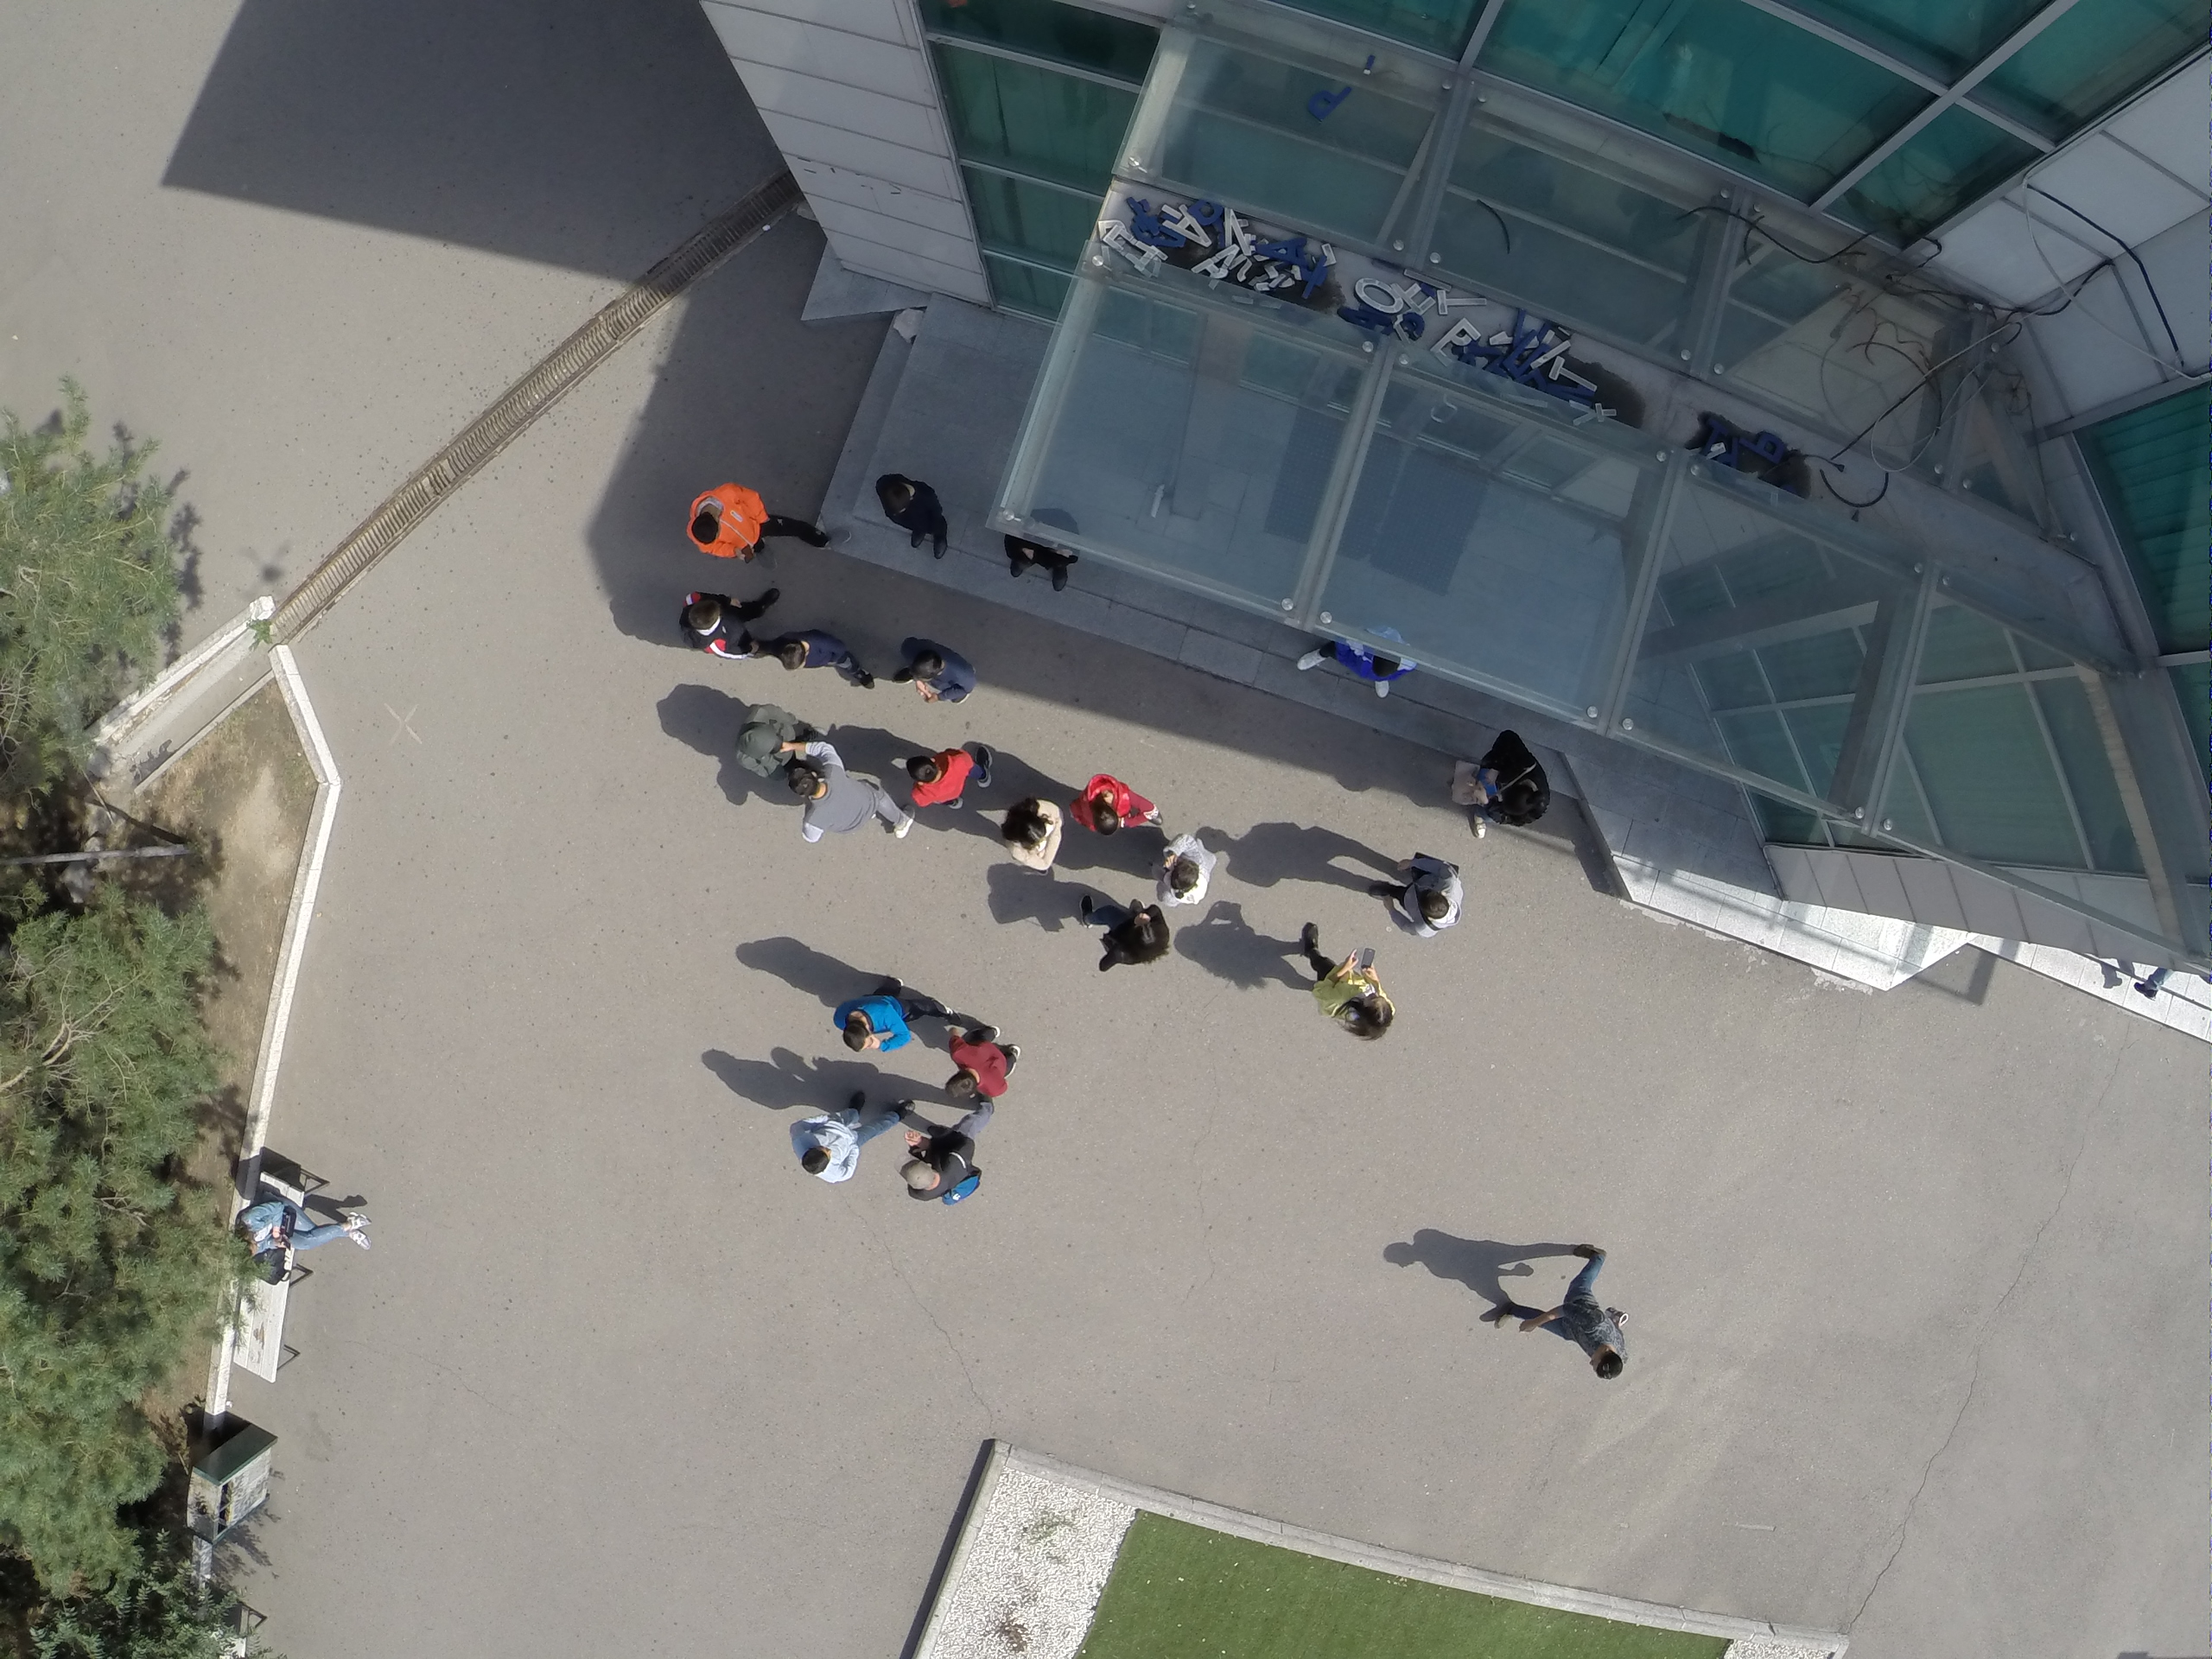person: (1480, 1242, 1635, 1380), (778, 739, 912, 849), (677, 480, 854, 563), (1299, 921, 1397, 1044), (893, 1093, 996, 1206), (1455, 724, 1551, 844), (829, 963, 950, 1055), (791, 1091, 907, 1185), (1369, 846, 1465, 944), (670, 587, 778, 671), (1080, 887, 1171, 982), (768, 615, 875, 690), (888, 630, 982, 710), (878, 465, 955, 563), (717, 695, 809, 775), (903, 741, 992, 820), (235, 1204, 372, 1254), (937, 1024, 1020, 1103), (1071, 770, 1164, 837), (1001, 797, 1065, 877), (1156, 828, 1217, 912)
